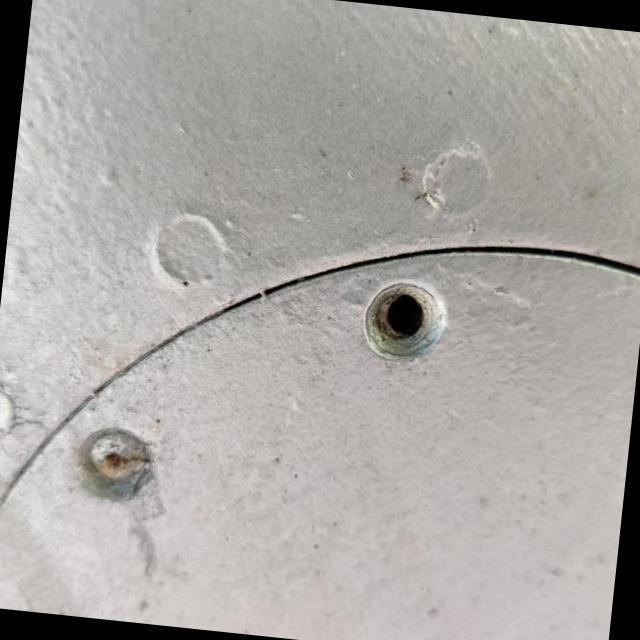Missing Fastener: (364, 278, 448, 359)
